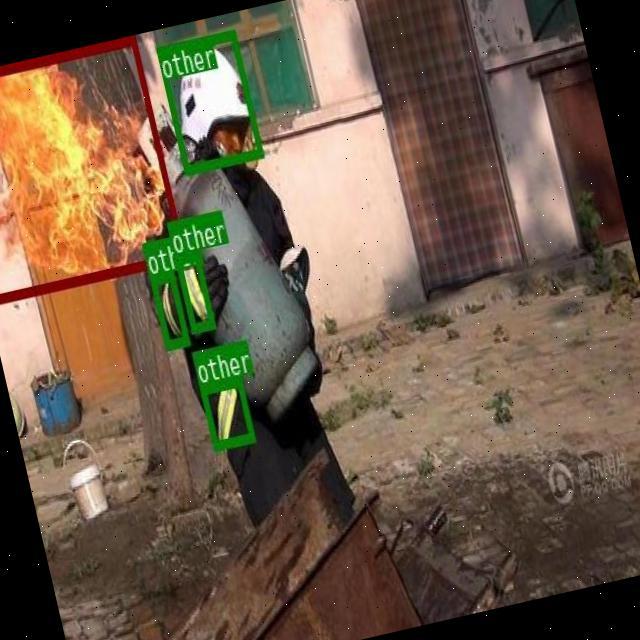fire: (0, 34, 185, 301)
